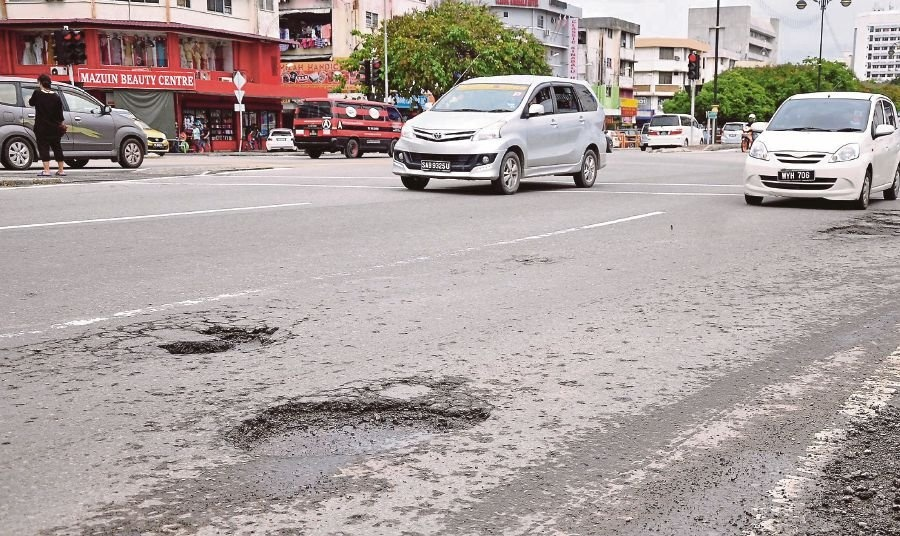pothole: (195, 387, 528, 470), (143, 312, 298, 366)
